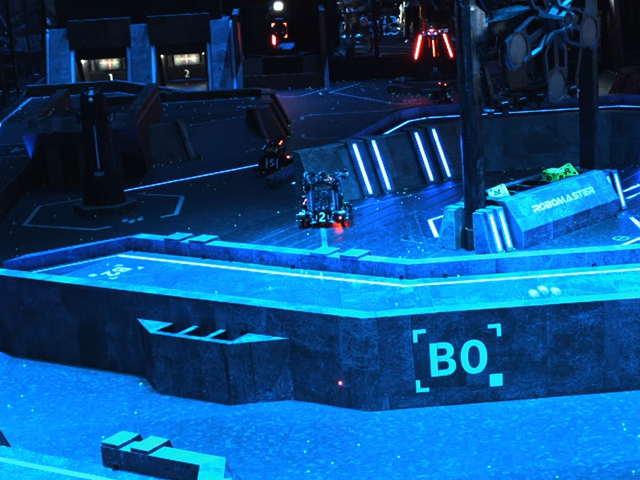rm: (300, 170, 354, 227), (256, 140, 294, 176), (435, 80, 453, 102)
